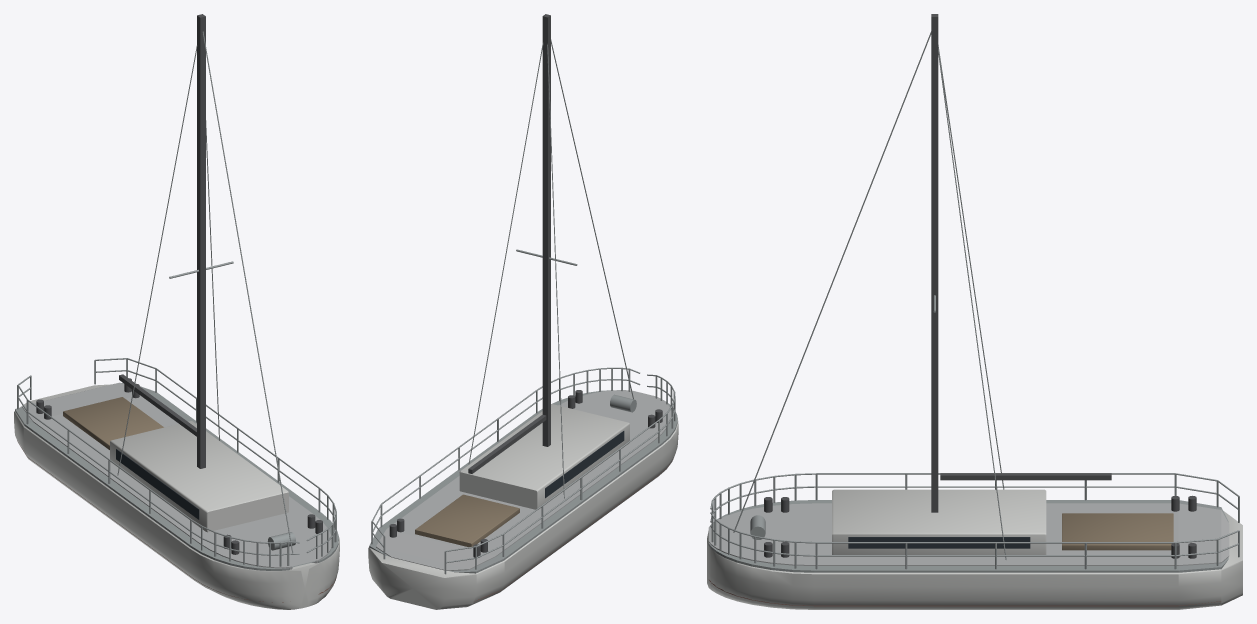
File: vessel-sail.glb
3 renders of one model, left to right at view 1: azimuth 30°, elevation 25°; view 2: azimuth 150°, elevation 25°; view 3: azimuth 270°, elevation 25°, orthographic. The views are drawn at different scales.
Parts seen in each view (by area): view 1: vessel-sail; view 2: vessel-sail; view 3: vessel-sail.
Part boxes in pixels (x1,y1,x2,y2): vessel-sail: (14, 14, 339, 609); vessel-sail: (368, 14, 678, 609); vessel-sail: (707, 14, 1242, 609).
Size of the model in its own units: 3.8 by 14 by 12.
